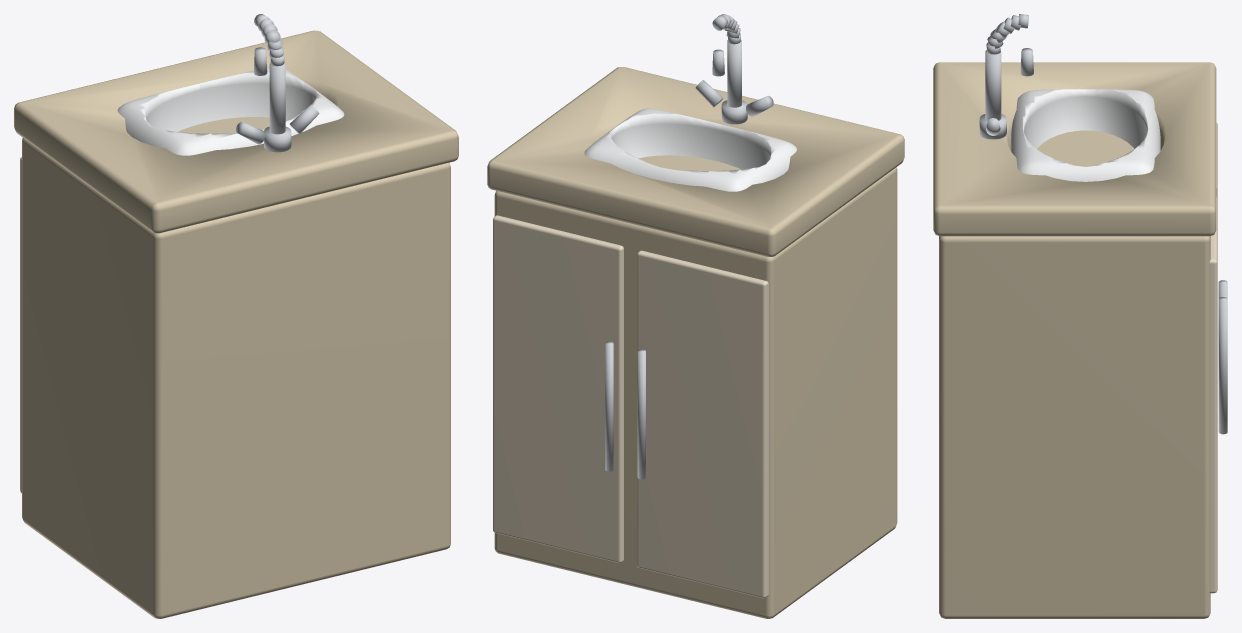
Rendered from basin.glb.
The picture shows the model from 3 angles, left to right: view 1: azimuth 30°, elevation 25°; view 2: azimuth 150°, elevation 25°; view 3: azimuth 270°, elevation 25°; orthographic projection. The views are drawn at different scales.
Visible parts, largest first — view 1: cabinet; view 2: cabinet; view 3: cabinet.
Boxes of the visible parts, x1,y1,x2,y2 form: cabinet: [14, 14, 458, 618]; cabinet: [487, 14, 904, 618]; cabinet: [933, 14, 1227, 618].
Size of the model in its own units: 0.62 by 1.04 by 0.52.
